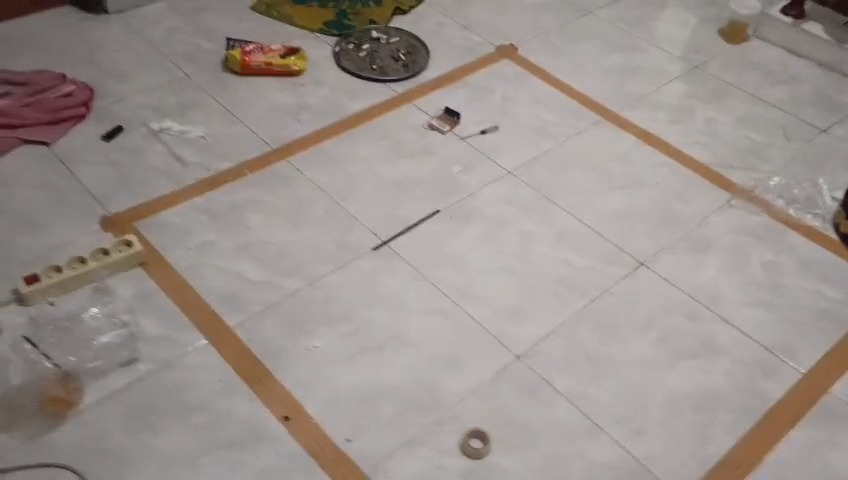floor marking: (102, 44, 847, 479), (701, 333, 847, 479)
